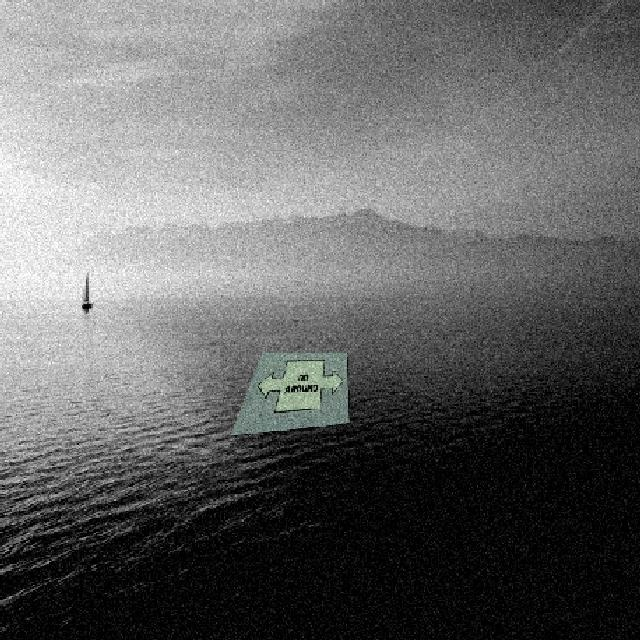GO_AROUND: (246, 358, 344, 414)
